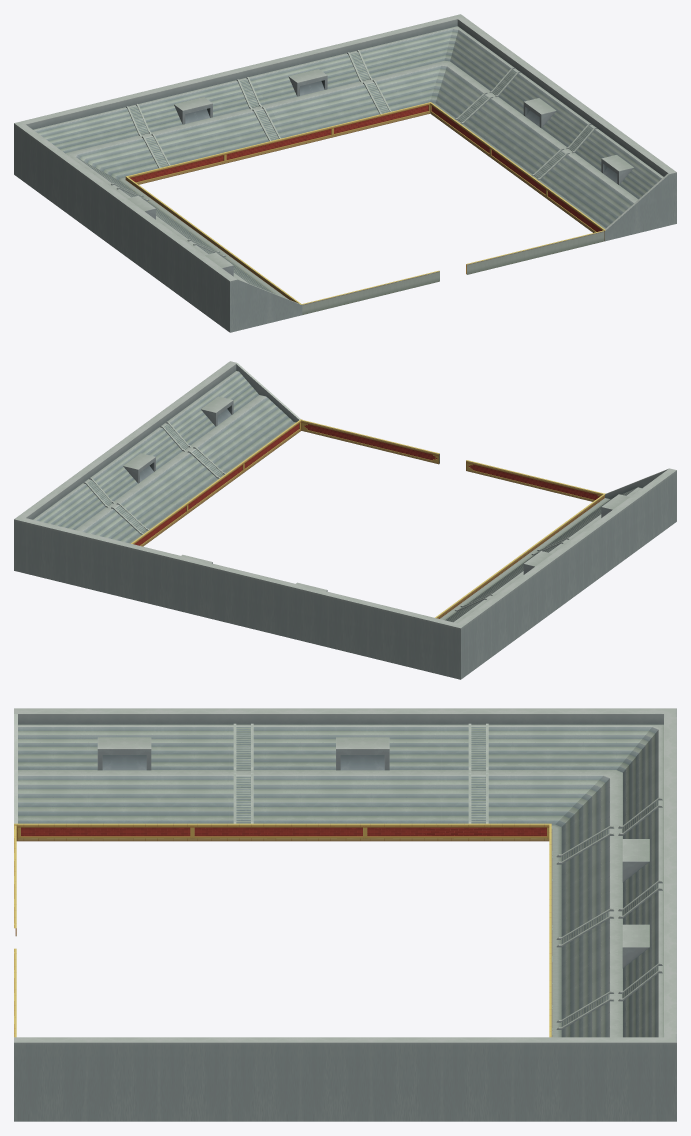
File: wudaohui_kantai.FBX
3 renders of one model, top to bottom at view 1: azimuth 30°, elevation 25°; view 2: azimuth 150°, elevation 25°; view 3: azimuth 270°, elevation 25°, orthographic. The views are drawn at different scales.
Visible parts, largest first — view 1: wudaohui_kantai001, wudaohui_zhuanqiang001; view 2: wudaohui_kantai001, wudaohui_zhuanqiang001; view 3: wudaohui_kantai001, wudaohui_zhuanqiang001.
Part boxes in pixels (<box>): wudaohui_kantai001: <box>14,14,676,332</box>; wudaohui_zhuanqiang001: <box>119,102,605,314</box>; wudaohui_kantai001: <box>14,361,676,679</box>; wudaohui_zhuanqiang001: <box>129,419,609,620</box>; wudaohui_kantai001: <box>14,708,676,1121</box>; wudaohui_zhuanqiang001: <box>14,823,561,1037</box>.
Size of the model in its own units: 16815 by 1850 by 14086.
